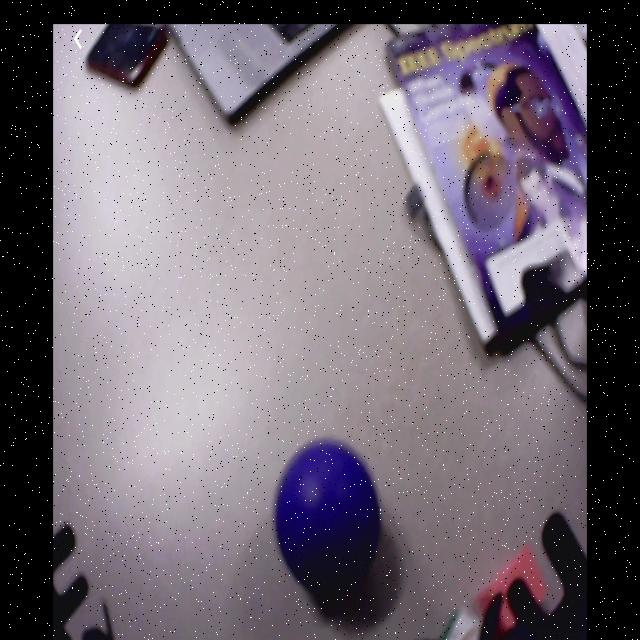ball: (277, 447, 379, 578)
